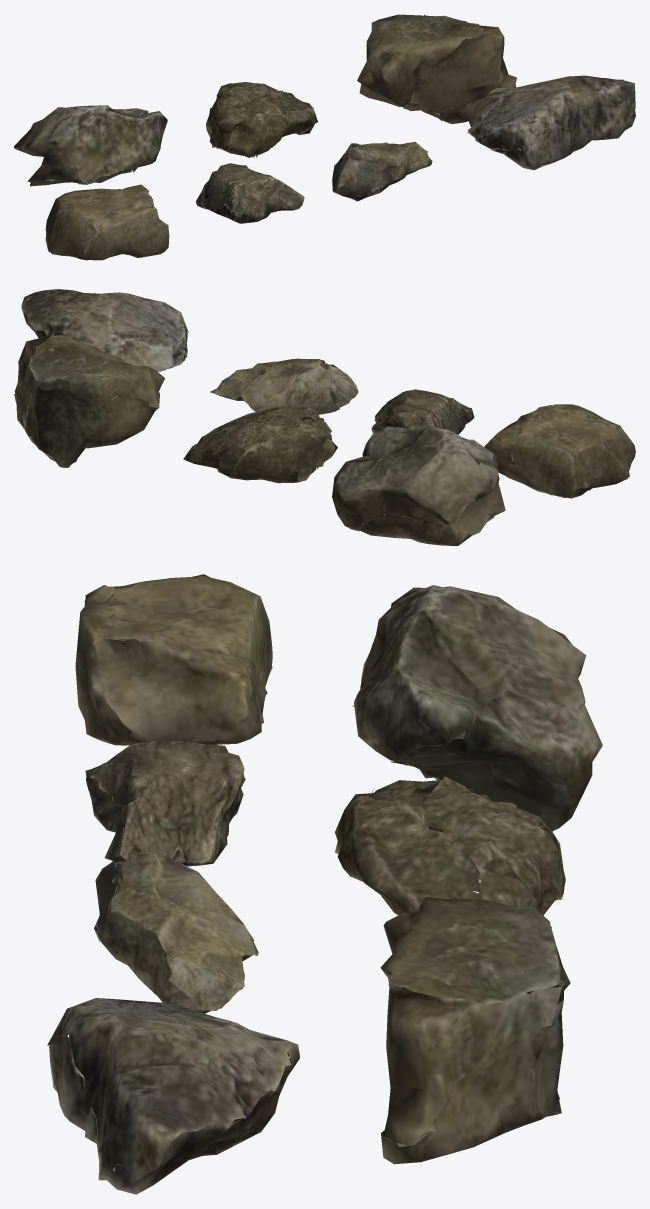
File: rock_moss_set_02.glb
3 renders of one model, top to bottom at view 1: azimuth 30°, elevation 25°; view 2: azimuth 150°, elevation 25°; view 3: azimuth 270°, elevation 25°, orthographic. The views are drawn at different scales.
Visible parts, largest first — view 1: rock_moss_set_02_rock13, rock_moss_set_02_rock10, rock_moss_set_02_rock11, rock_moss_set_02_rock07, rock_moss_set_02_rock12, rock_moss_set_02_rock08, rock_moss_set_02_rock09; view 2: rock_moss_set_02_rock11, rock_moss_set_02_rock13, rock_moss_set_02_rock07, rock_moss_set_02_rock10, rock_moss_set_02_rock12, rock_moss_set_02_rock09, rock_moss_set_02_rock08; view 3: rock_moss_set_02_rock13, rock_moss_set_02_rock11, rock_moss_set_02_rock10, rock_moss_set_02_rock07, rock_moss_set_02_rock12, rock_moss_set_02_rock09, rock_moss_set_02_rock08.
Part boxes in pixels (x1=…): rock_moss_set_02_rock13: x1=357, y1=14, x2=516, y2=123; rock_moss_set_02_rock10: x1=467, y1=75, x2=635, y2=170; rock_moss_set_02_rock11: x1=14, y1=105, x2=167, y2=186; rock_moss_set_02_rock07: x1=45, y1=184, x2=169, y2=260; rock_moss_set_02_rock12: x1=206, y1=82, x2=317, y2=157; rock_moss_set_02_rock08: x1=196, y1=163, x2=304, y2=223; rock_moss_set_02_rock09: x1=332, y1=142, x2=432, y2=201; rock_moss_set_02_rock11: x1=332, y1=426, x2=505, y2=545; rock_moss_set_02_rock13: x1=14, y1=335, x2=164, y2=467; rock_moss_set_02_rock07: x1=484, y1=404, x2=635, y2=498; rock_moss_set_02_rock10: x1=21, y1=289, x2=188, y2=372; rock_moss_set_02_rock12: x1=183, y1=405, x2=337, y2=483; rock_moss_set_02_rock09: x1=210, y1=358, x2=358, y2=414; rock_moss_set_02_rock08: x1=371, y1=389, x2=474, y2=434; rock_moss_set_02_rock13: x1=380, y1=896, x2=570, y2=1164; rock_moss_set_02_rock11: x1=352, y1=585, x2=602, y2=831; rock_moss_set_02_rock10: x1=47, y1=998, x2=299, y2=1194; rock_moss_set_02_rock07: x1=75, y1=574, x2=272, y2=745; rock_moss_set_02_rock12: x1=335, y1=776, x2=565, y2=927; rock_moss_set_02_rock09: x1=94, y1=850, x2=258, y2=1013; rock_moss_set_02_rock08: x1=85, y1=741, x2=245, y2=866.
Bounding box in the file's own units: 8.28 × 1.35 × 3.42.
Materials: 1 (1 with a texture image).
